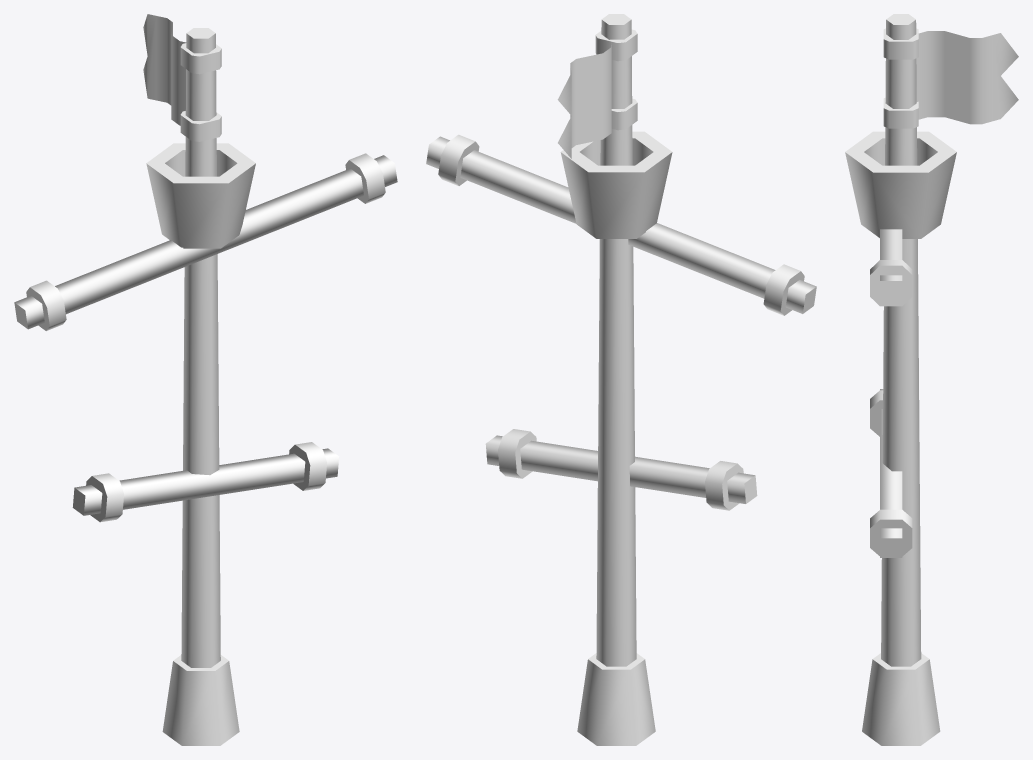
File: mast.glb
3 views of the same model, side by side, from view 1: azimuth 30°, elevation 25°; view 2: azimuth 150°, elevation 25°; view 3: azimuth 270°, elevation 25° (orthographic).
Visible parts, largest first — view 1: mast, sail-a, flag-c; view 2: mast, sail-a, flag-c; view 3: mast, flag-c, sail-a.
Part boxes in pixels (x1,y1,x2,y2): mast: (146, 28, 255, 745); sail-a: (14, 153, 397, 522); flag-c: (143, 14, 221, 141); mast: (560, 14, 672, 745); sail-a: (426, 134, 816, 510); flag-c: (557, 29, 637, 158); mast: (845, 14, 956, 745); flag-c: (883, 28, 1018, 128); sail-a: (870, 229, 912, 557).
Bounding box in the file's own units: 4.39 × 7.86 × 1.74.
1 material, 1 textured.
